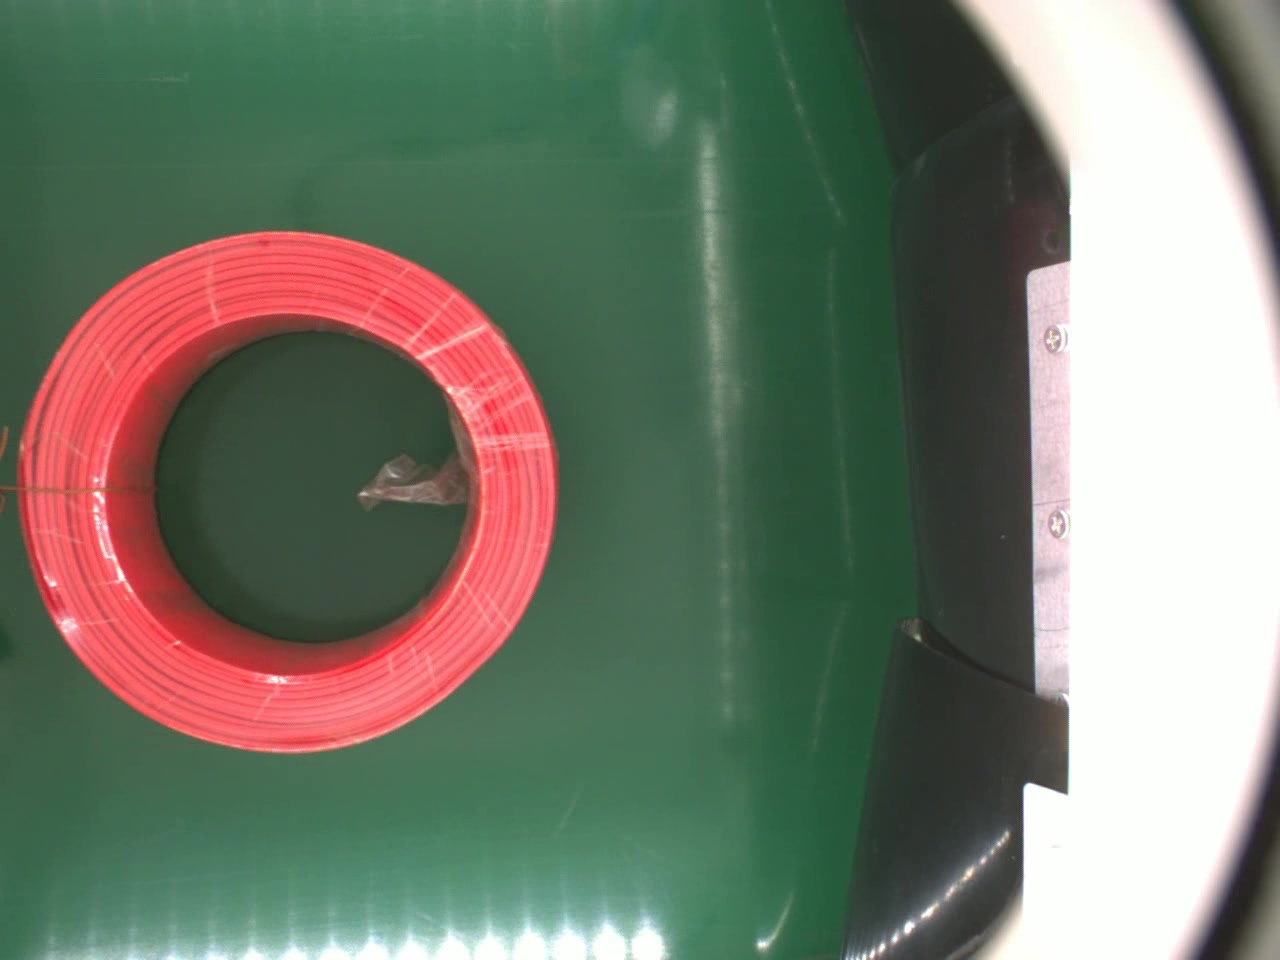red: (20, 227, 557, 749)
